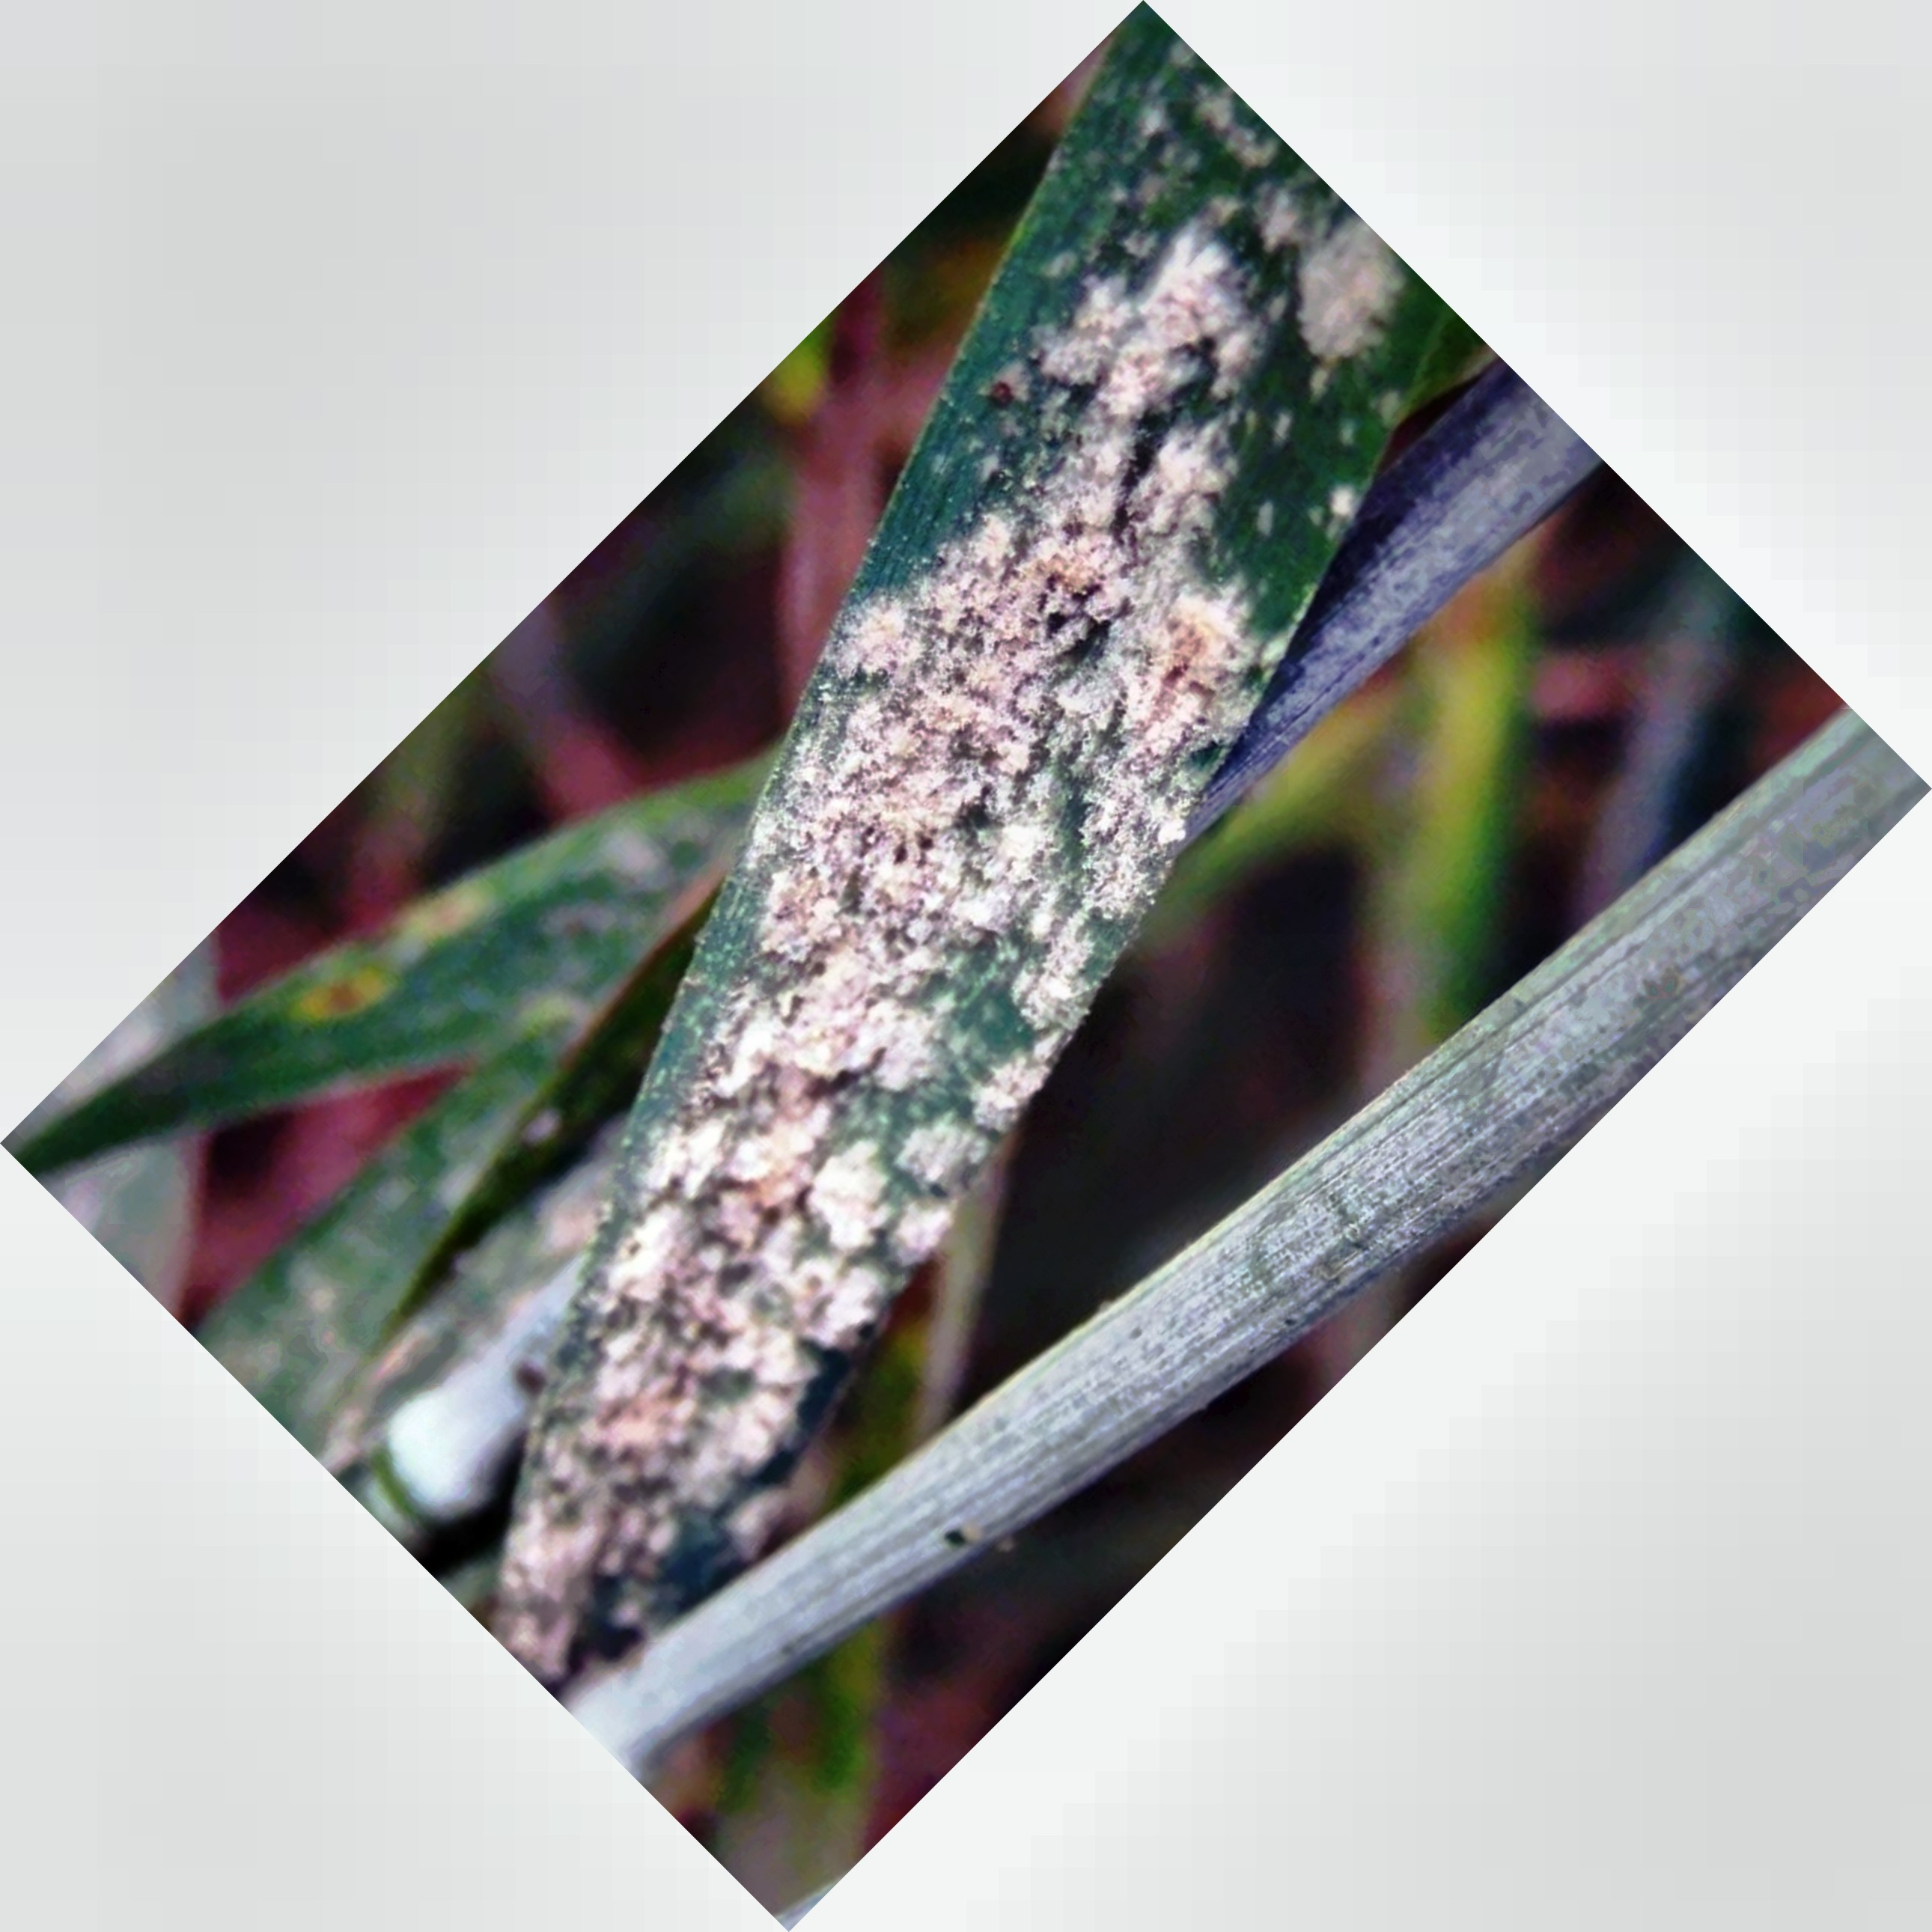Powdery Mildew: (610, 246, 1336, 1419)
